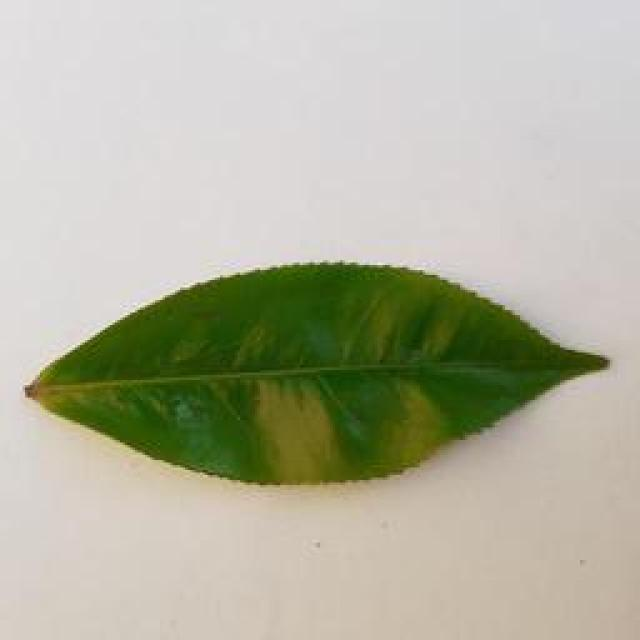Healthy: (24, 254, 618, 487)
